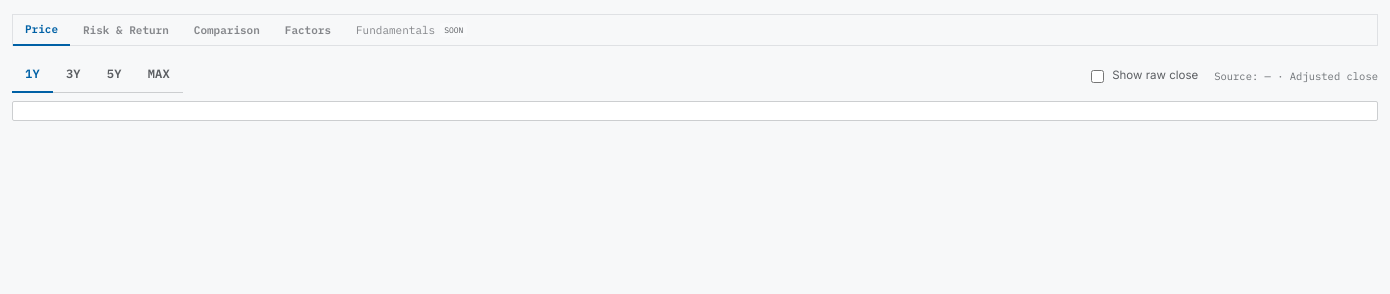
Test case: SecurityTabs › switching to Comparison seeds the ticker set with the current page ticker
Click the tab "Comparison": coordinates (227, 30) [182,15,272,46]
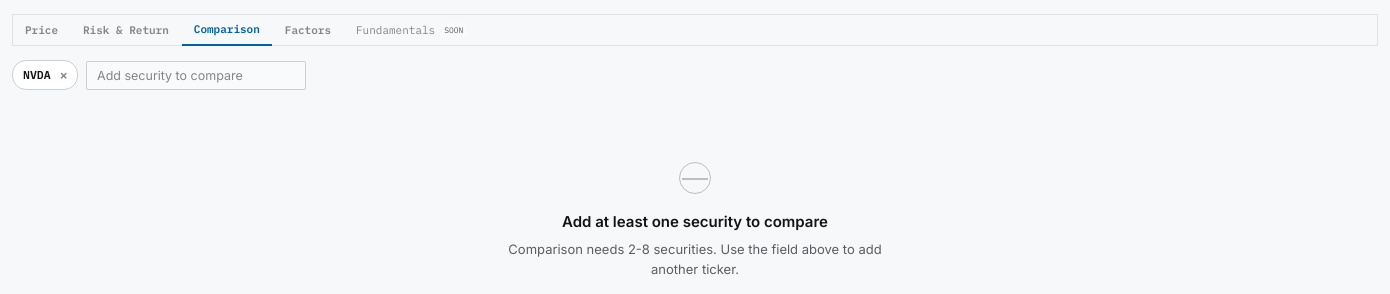
Result: the element with test id "comparison-empty-state" is shown at [508,162,882,277]
